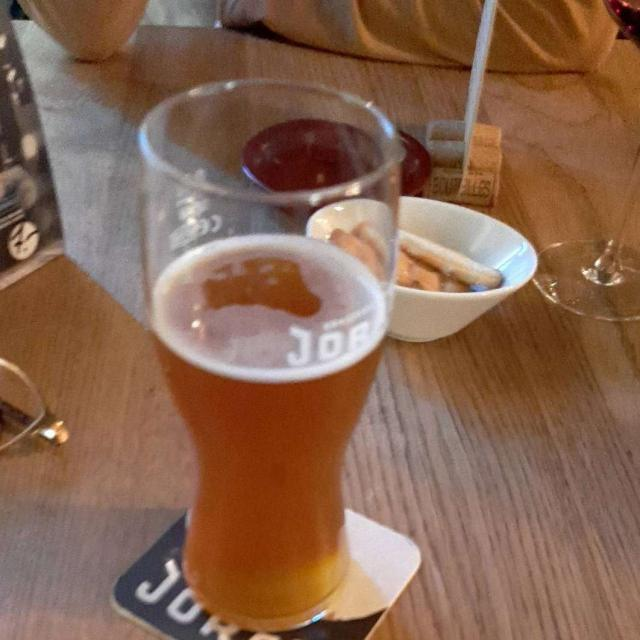beer: (132, 214, 366, 599)
